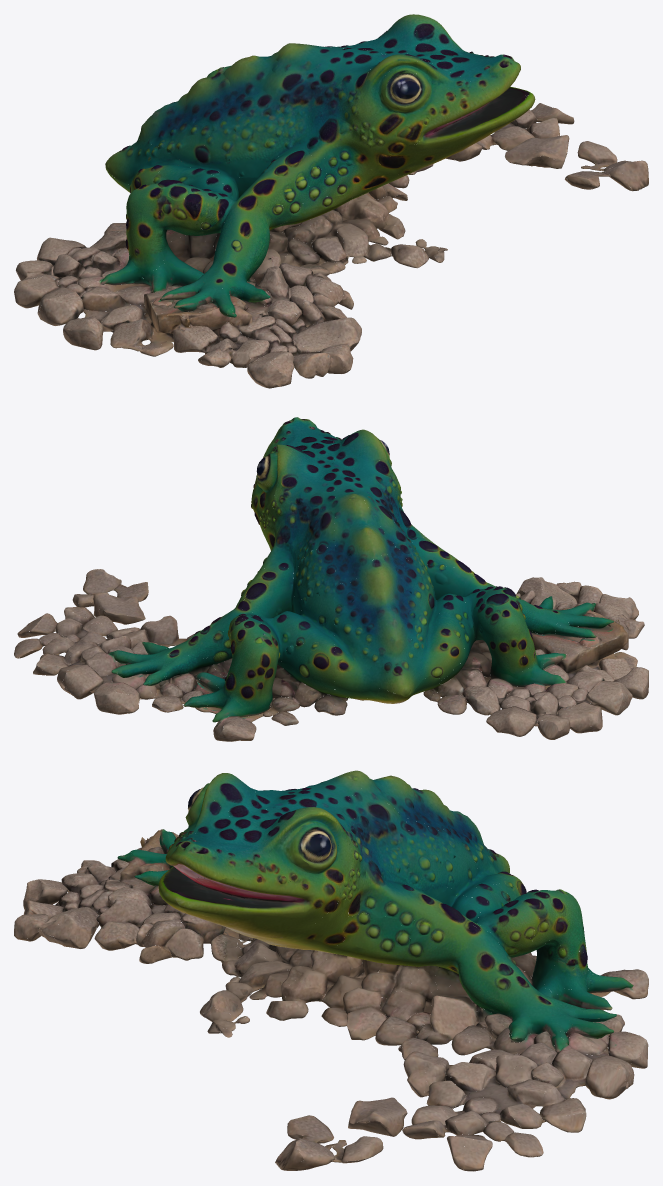
Rendered from sapo4.glb.
3 views of the same model, one above another, from view 1: azimuth 30°, elevation 25°; view 2: azimuth 150°, elevation 25°; view 3: azimuth 270°, elevation 25° (orthographic). The views are drawn at different scales.
Visible parts, largest first — view 1: tripo_node_aeaf381d-6914-44c2-b23d-7dac59fb649e; view 2: tripo_node_aeaf381d-6914-44c2-b23d-7dac59fb649e; view 3: tripo_node_aeaf381d-6914-44c2-b23d-7dac59fb649e.
Part boxes in pixels (box(x1,y1,x2,y2)): tripo_node_aeaf381d-6914-44c2-b23d-7dac59fb649e: box(14, 14, 648, 388); tripo_node_aeaf381d-6914-44c2-b23d-7dac59fb649e: box(14, 417, 648, 741); tripo_node_aeaf381d-6914-44c2-b23d-7dac59fb649e: box(14, 770, 648, 1171).
Size of the model in its own units: 0.9803 by 0.3343 by 0.7905.
Materials: 1 (1 with a texture image).
